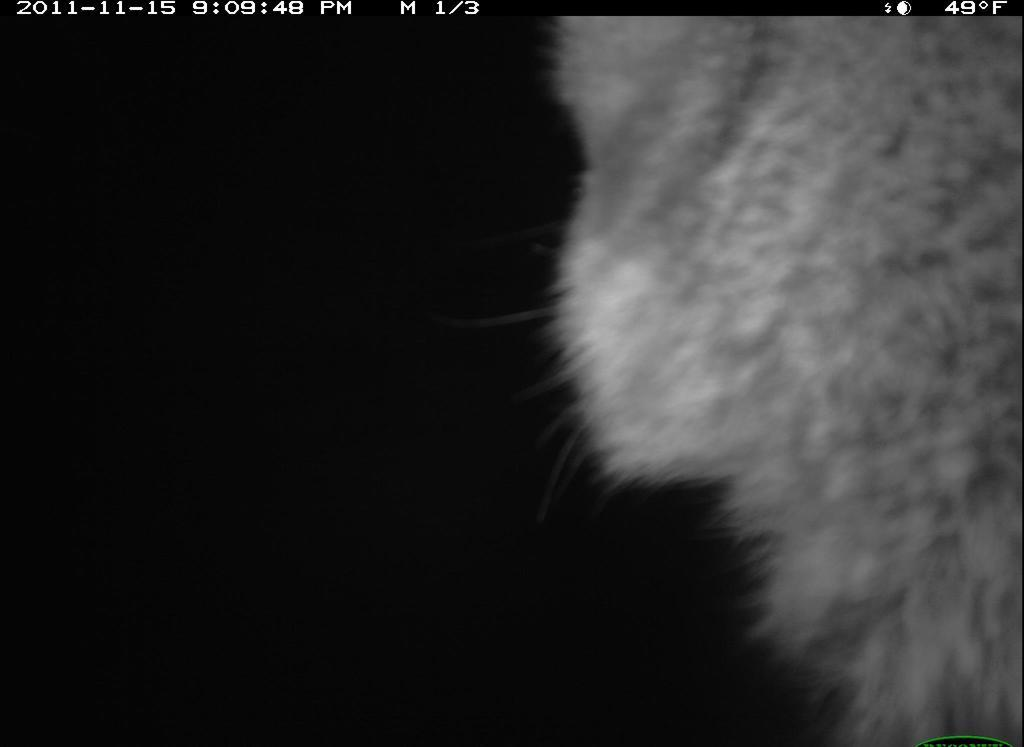raccoon: (496, 10, 1024, 747)
